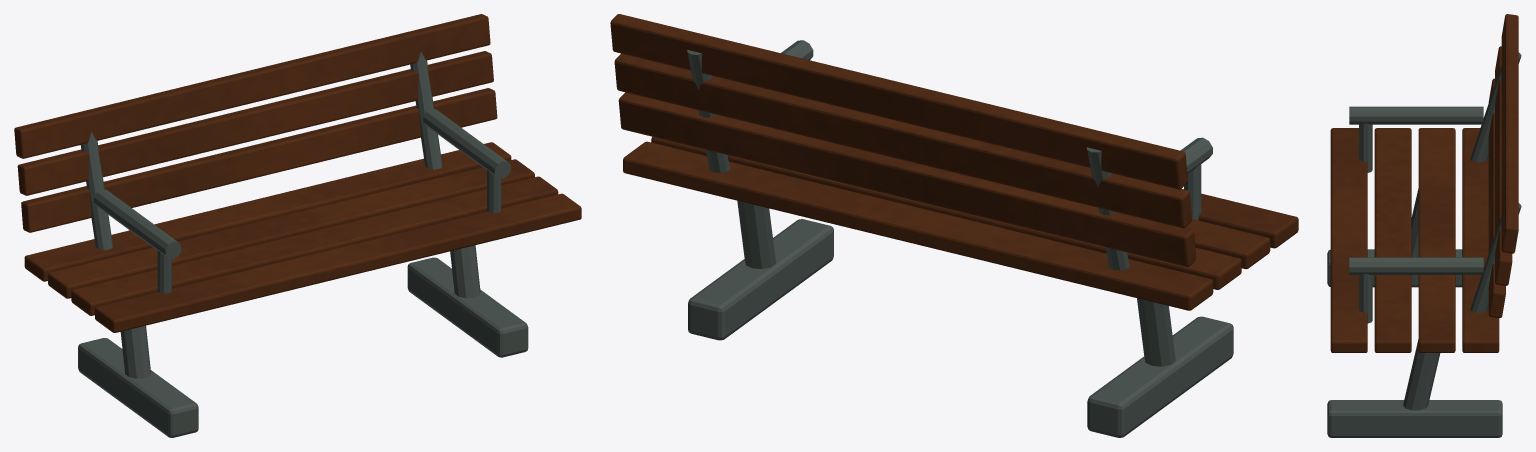
Rendered from park_bench.glb.
3 renders of one model, left to right at view 1: azimuth 30°, elevation 25°; view 2: azimuth 150°, elevation 25°; view 3: azimuth 270°, elevation 25°, orthographic. The views are drawn at different scales.
Parts seen in each view (by area): view 1: park_bench; view 2: park_bench; view 3: park_bench.
Boxes of the visible parts, box(x1,y1,x2,y2) form: park_bench: box(14, 14, 581, 437); park_bench: box(610, 14, 1298, 437); park_bench: box(1327, 14, 1521, 437).
Bounding box in the file's own units: 1.85 × 0.9545 × 0.7087.
Materials: 2 (1 with a texture image).
